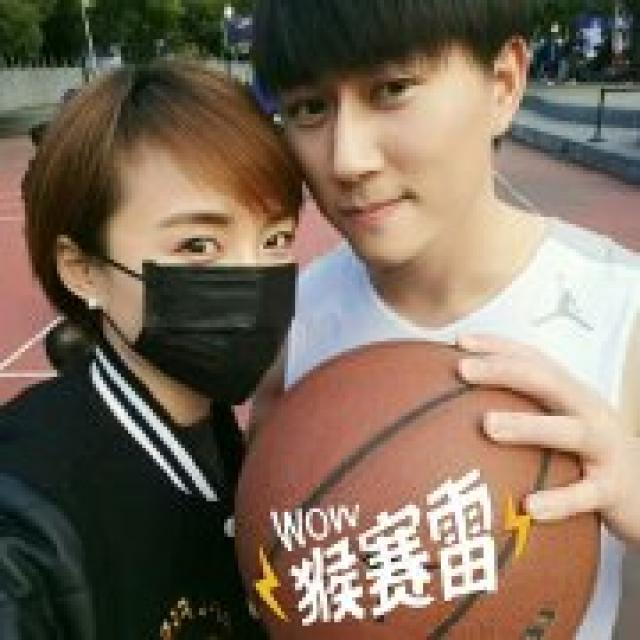mask: (98, 146, 293, 402)
nomask: (270, 2, 484, 261)
